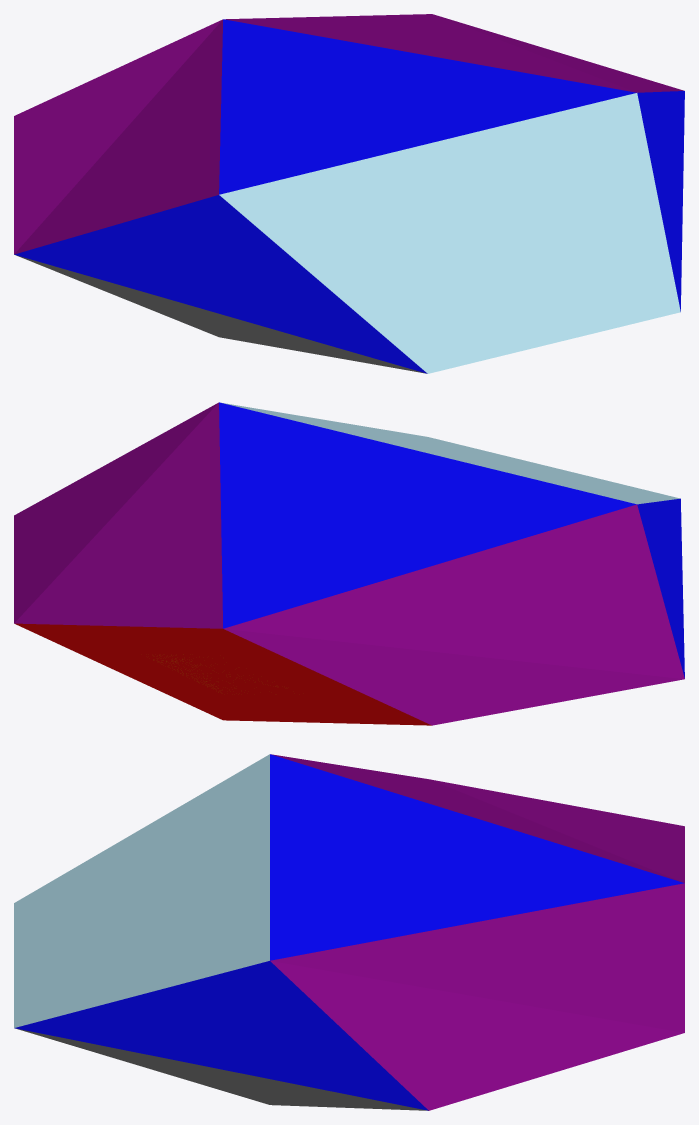
The model's file is aspmk2.obj.
3 views of the same model, one above another, from view 1: azimuth 30°, elevation 25°; view 2: azimuth 150°, elevation 25°; view 3: azimuth 270°, elevation 25° (orthographic).
Bounding box in the file's own units: 138 × 32 × 118.
